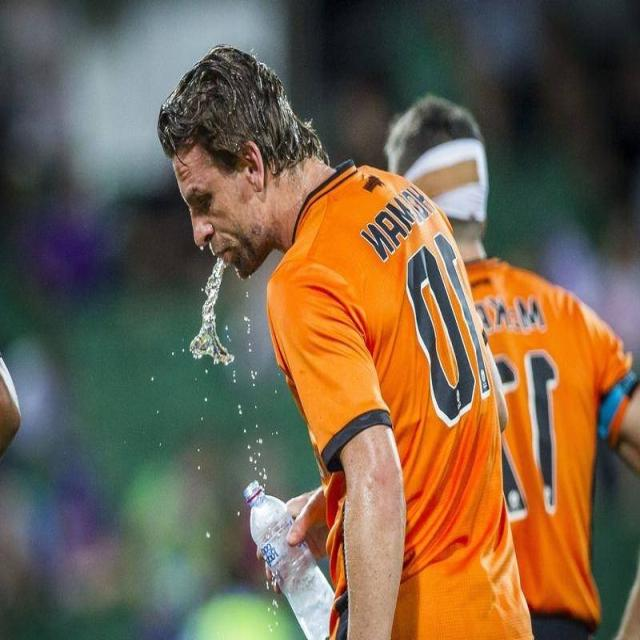Spitting: (144, 47, 296, 408)
